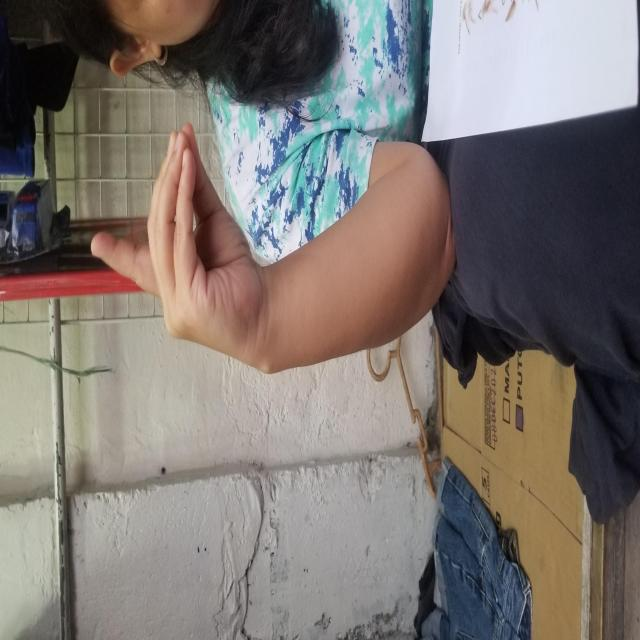D: (286, 91, 517, 259)
